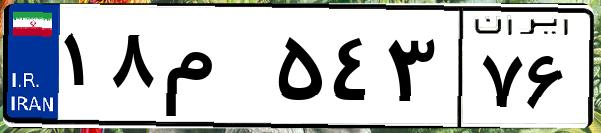1: (57, 26, 110, 100)
3: (385, 28, 445, 110)
4: (330, 28, 385, 110)
5: (270, 28, 330, 110)
6: (525, 38, 570, 115)
7: (475, 38, 525, 113)
8: (110, 28, 158, 98)
م: (158, 20, 270, 120)
